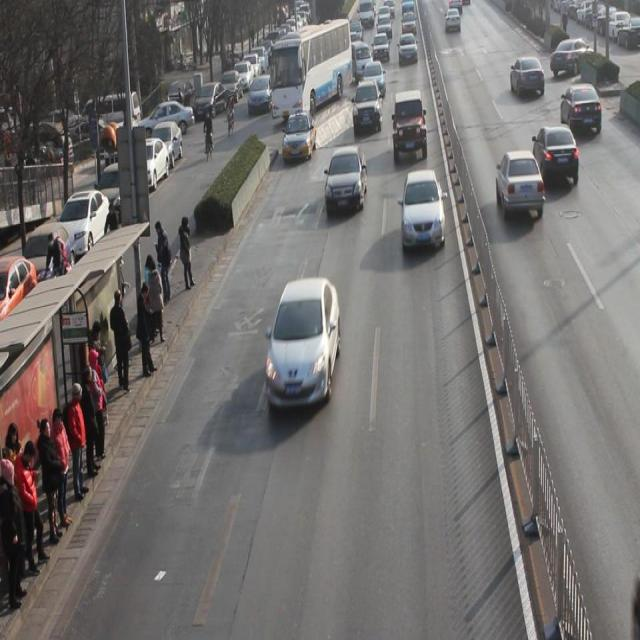car: (266, 276, 341, 410), (402, 167, 446, 254), (496, 151, 546, 219), (533, 124, 580, 189), (325, 146, 368, 213), (393, 91, 429, 162), (561, 84, 602, 136), (283, 111, 317, 163), (353, 79, 383, 136), (553, 38, 595, 78), (510, 57, 545, 101), (361, 60, 387, 100), (399, 33, 418, 68), (372, 32, 390, 64)
truck: (351, 40, 373, 84)
van: (271, 24, 352, 124)
